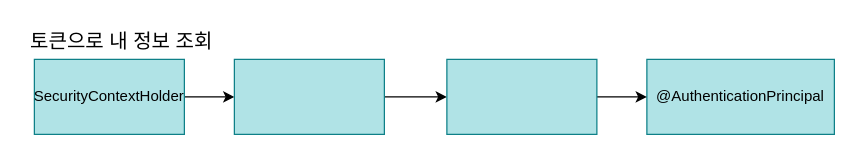
Some shapes in this 856 by 156 pixel diagram are drawn without their labels. Here are the shapes that lost their labels. From the top down, the centre of each, then its label:
At pixel 308 96: "Authentication 객체".
At pixel 521 96: "getPrincipal()".
